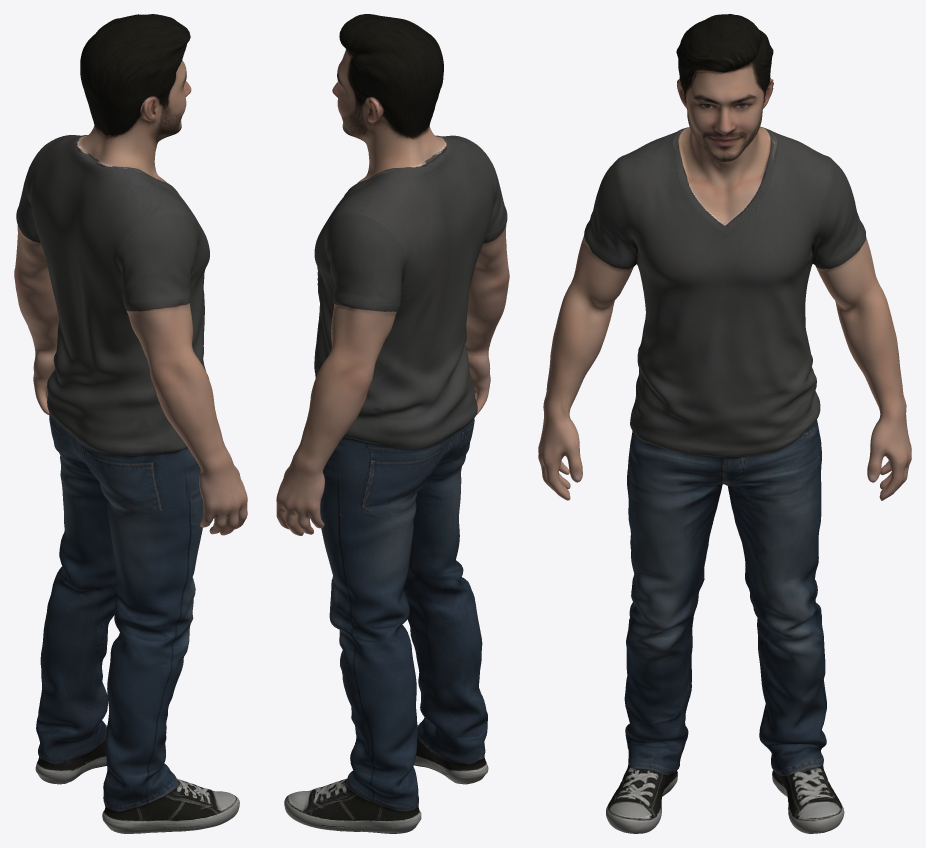
The model's file is tripo_convert_2b23aab0-f29f-4eb6-8a45-82cbc75cf853.fbx.
3 renders of one model, left to right at view 1: azimuth 30°, elevation 25°; view 2: azimuth 150°, elevation 25°; view 3: azimuth 270°, elevation 25°, orthographic. The views are drawn at different scales.
Visible parts, largest first — view 1: tripo_node_2b23aab0; view 2: tripo_node_2b23aab0; view 3: tripo_node_2b23aab0.
Boxes of the visible parts, x1,y1,x2,y2 form: tripo_node_2b23aab0: (14,14,247,833); tripo_node_2b23aab0: (276,14,509,833); tripo_node_2b23aab0: (538,14,911,833).
Bounding box in the file's own units: 0.1686 × 0.9791 × 0.4184.
1 material, 1 textured.
